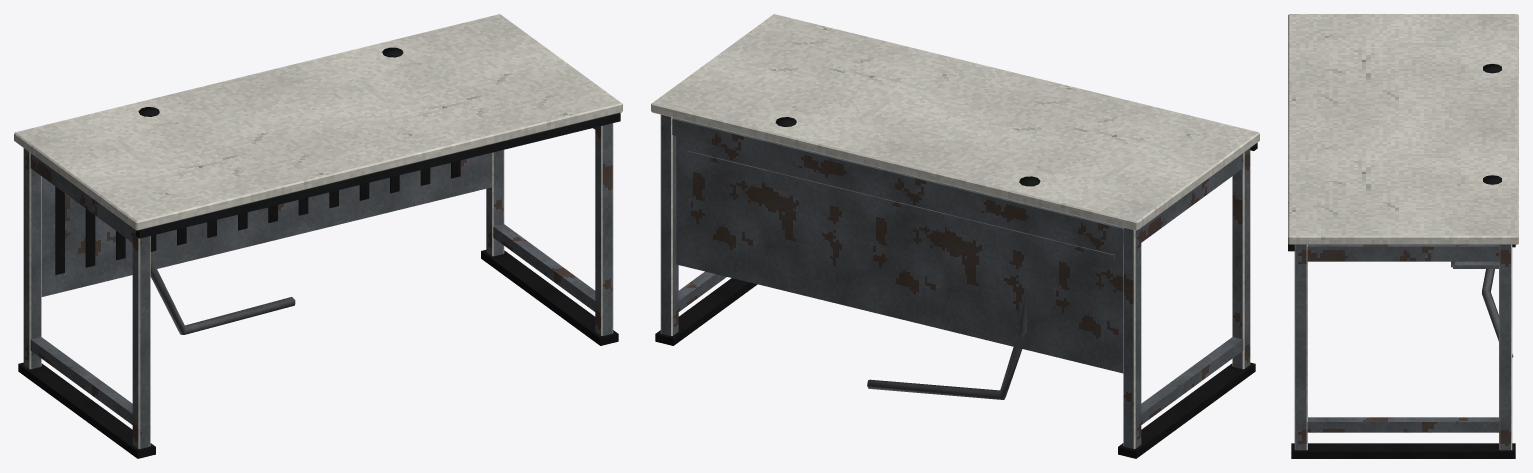
Rendered from Lab_Desk.fbx.
The picture shows the model from 3 angles, left to right: view 1: azimuth 30°, elevation 25°; view 2: azimuth 150°, elevation 25°; view 3: azimuth 270°, elevation 25°; orthographic projection. The views are drawn at different scales.
Parts seen in each view (by area): view 1: Lab_Desk; view 2: Lab_Desk; view 3: Lab_Desk.
Part boxes in pixels (bbox=[...]): Lab_Desk: bbox=[14, 14, 622, 458]; Lab_Desk: bbox=[651, 14, 1259, 458]; Lab_Desk: bbox=[1288, 14, 1518, 458].
Bounding box in the file's own units: 1.6 × 0.754 × 0.7.
